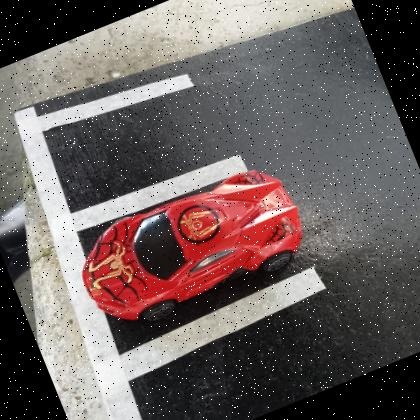Car: (82, 170, 304, 324)
